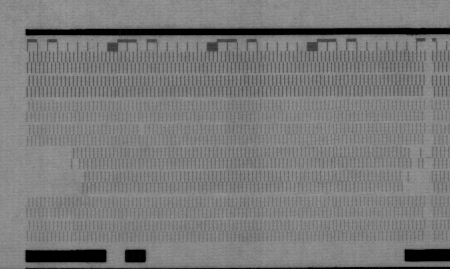Broken hole: (23, 145, 87, 195), (400, 169, 424, 192), (408, 146, 422, 169), (135, 122, 147, 135)
